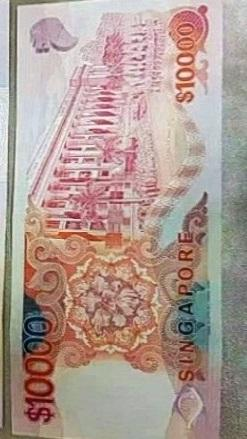10000SingaporeDollar: (19, 5, 219, 433)
